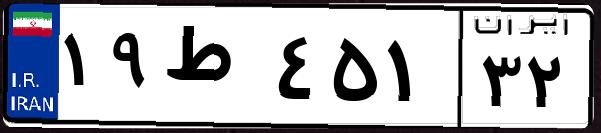1: (385, 28, 445, 110), (57, 26, 110, 100)
2: (525, 38, 570, 115)
3: (475, 38, 525, 113)
4: (270, 28, 330, 110)
5: (330, 28, 385, 110)
9: (110, 28, 158, 98)
ط: (158, 20, 270, 120)
